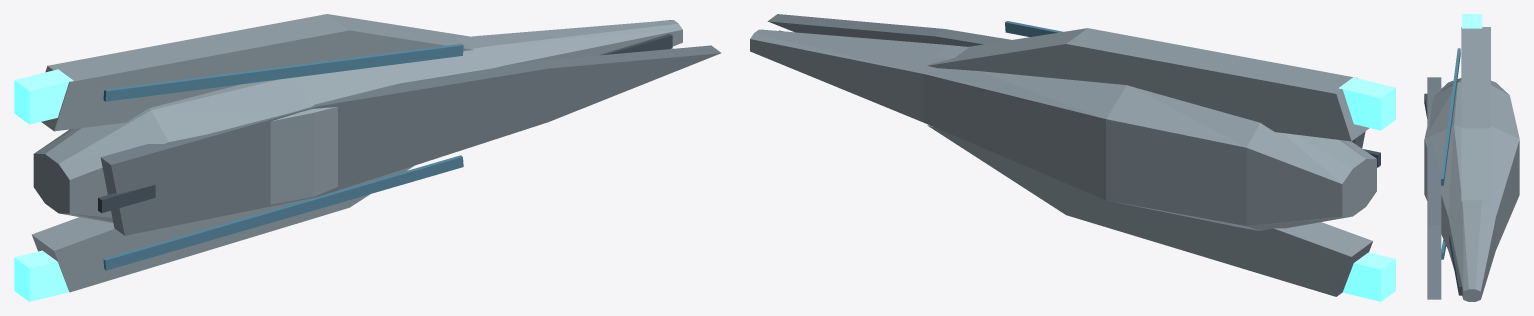
Rendered from alliance-frigate.glb.
3 renders of one model, left to right at view 1: azimuth 30°, elevation 25°; view 2: azimuth 150°, elevation 25°; view 3: azimuth 270°, elevation 25°, orthographic. The views are drawn at different scales.
Parts seen in each view (by area): view 1: Hull and platework, Engines and emitters; view 2: Hull and platework, Engines and emitters; view 3: Hull and platework, Engines and emitters.
Part boxes in pixels (x1,y1,x2,y2): Hull and platework: (31, 14, 721, 292); Engines and emitters: (14, 69, 73, 301); Hull and platework: (750, 14, 1380, 296); Engines and emitters: (1338, 77, 1395, 301); Hull and platework: (1424, 27, 1519, 301); Engines and emitters: (1462, 14, 1482, 28).
Bounding box in the file's own units: 2.57 × 0.7767 × 0.4815.
